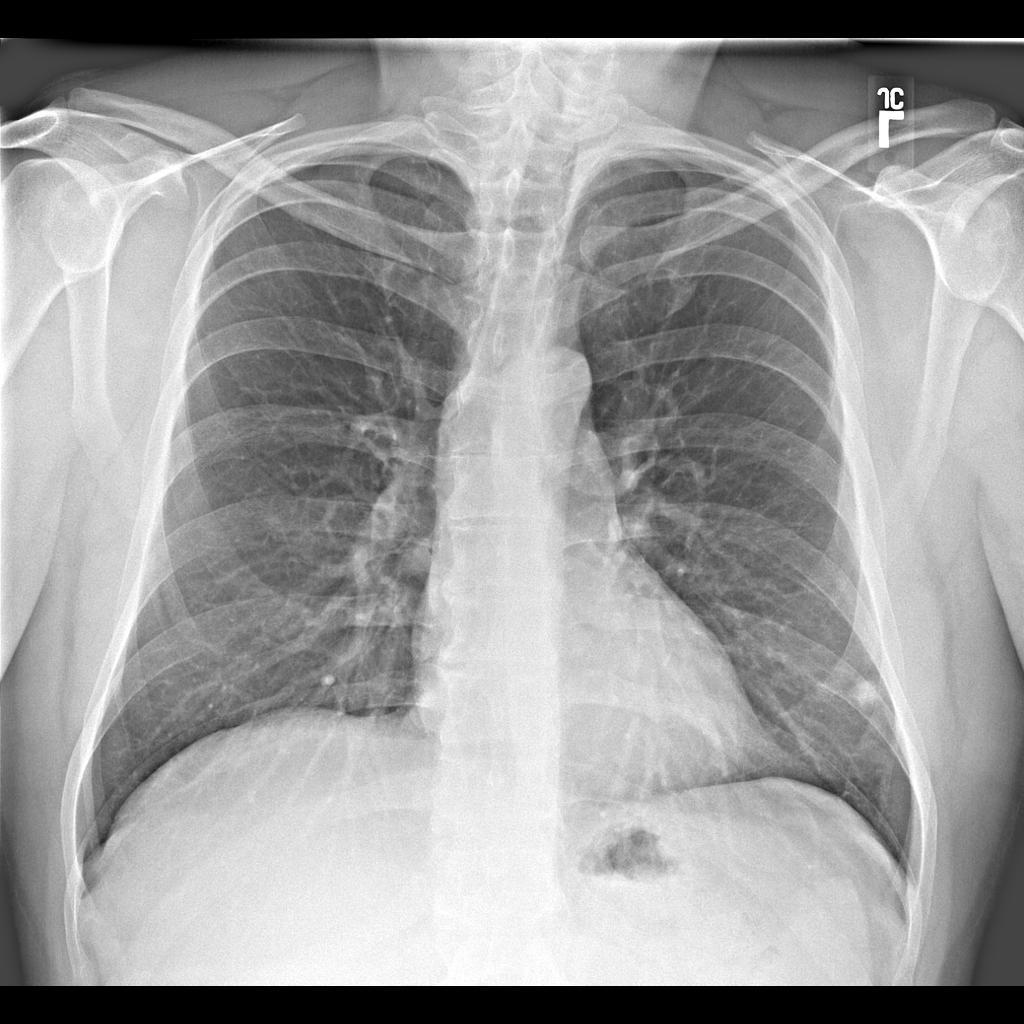Nodule: (852, 680, 881, 710)
